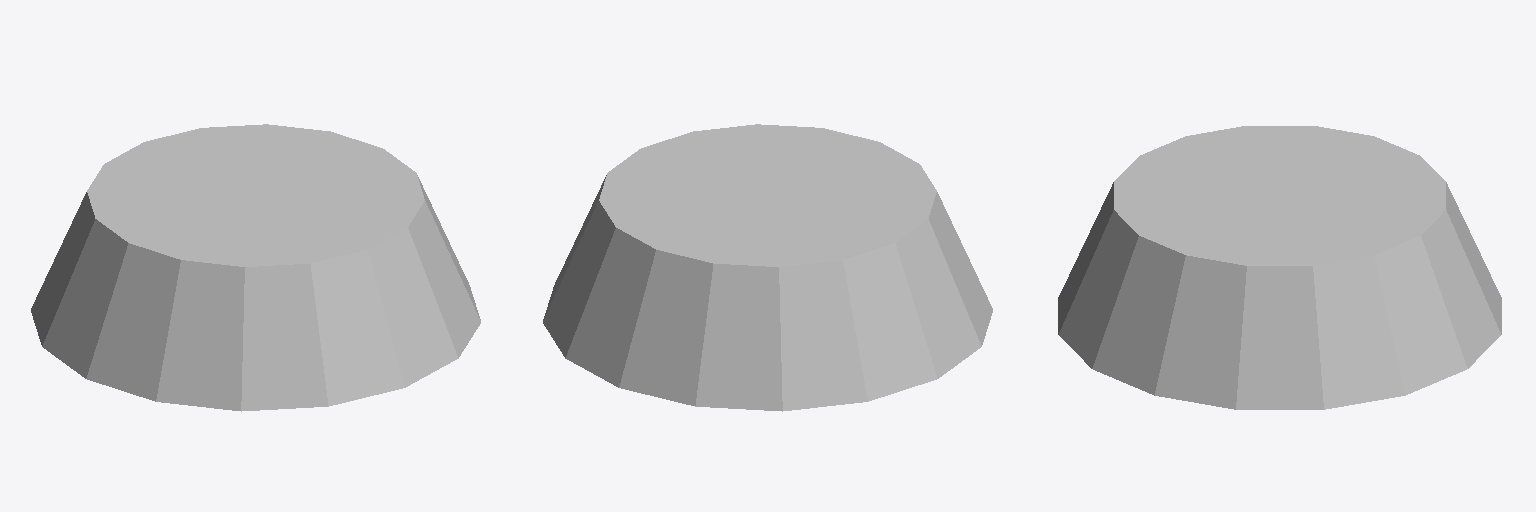
The model's file is libra_fuel_tank_s1_s0p5_1_collider.obj.
3 renders of one model, left to right at view 1: azimuth 30°, elevation 25°; view 2: azimuth 150°, elevation 25°; view 3: azimuth 270°, elevation 25°, orthographic.
Visible parts, largest first — view 1: libra_fuel_tank_s1_s0p5_1_collider; view 2: libra_fuel_tank_s1_s0p5_1_collider; view 3: libra_fuel_tank_s1_s0p5_1_collider.
Part boxes in pixels (bbox=[...]): libra_fuel_tank_s1_s0p5_1_collider: bbox=[31, 124, 480, 411]; libra_fuel_tank_s1_s0p5_1_collider: bbox=[543, 124, 992, 411]; libra_fuel_tank_s1_s0p5_1_collider: bbox=[1058, 126, 1501, 409].
Size of the model in its own units: 1.25 by 0.375 by 1.25.